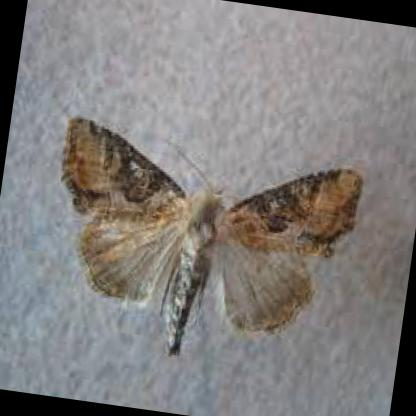Leaf Webber: (63, 111, 369, 354)
